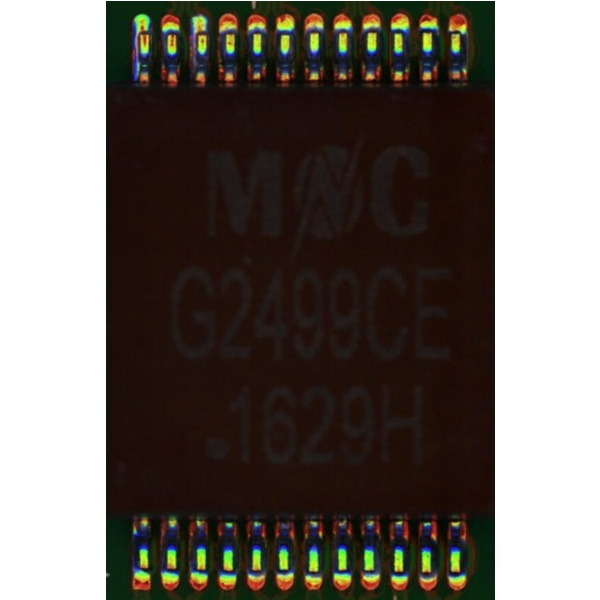Bad_podu: (139, 22, 147, 39)
Bad_qiaojiao: (132, 30, 139, 80)
